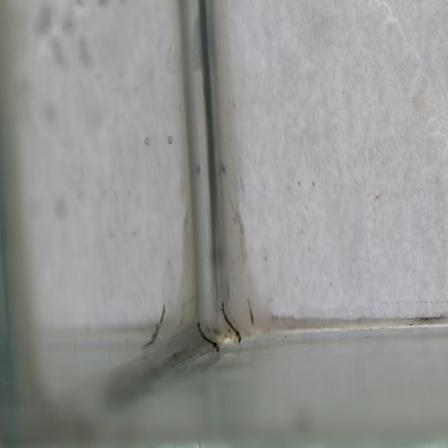Jentik-Nyamuk: (221, 298, 245, 351), (194, 320, 222, 351)
